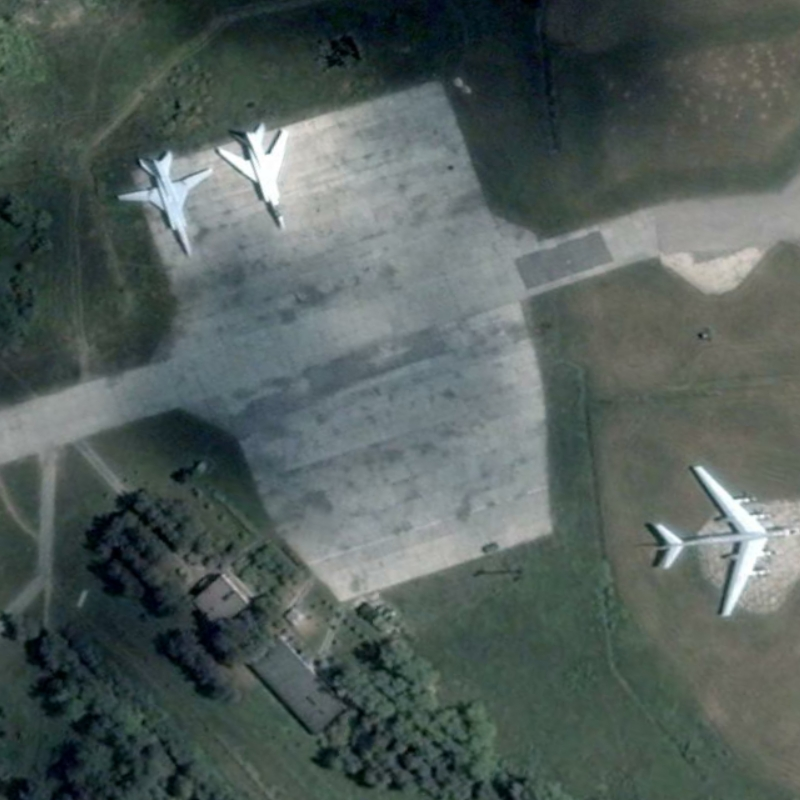A12: (115, 148, 215, 259), (215, 120, 291, 233)
A17: (652, 463, 800, 620)
